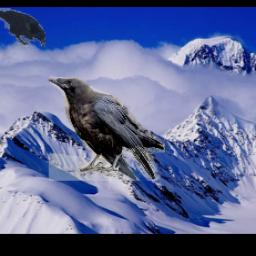Crow: (48, 76, 164, 181), (0, 8, 45, 47)
